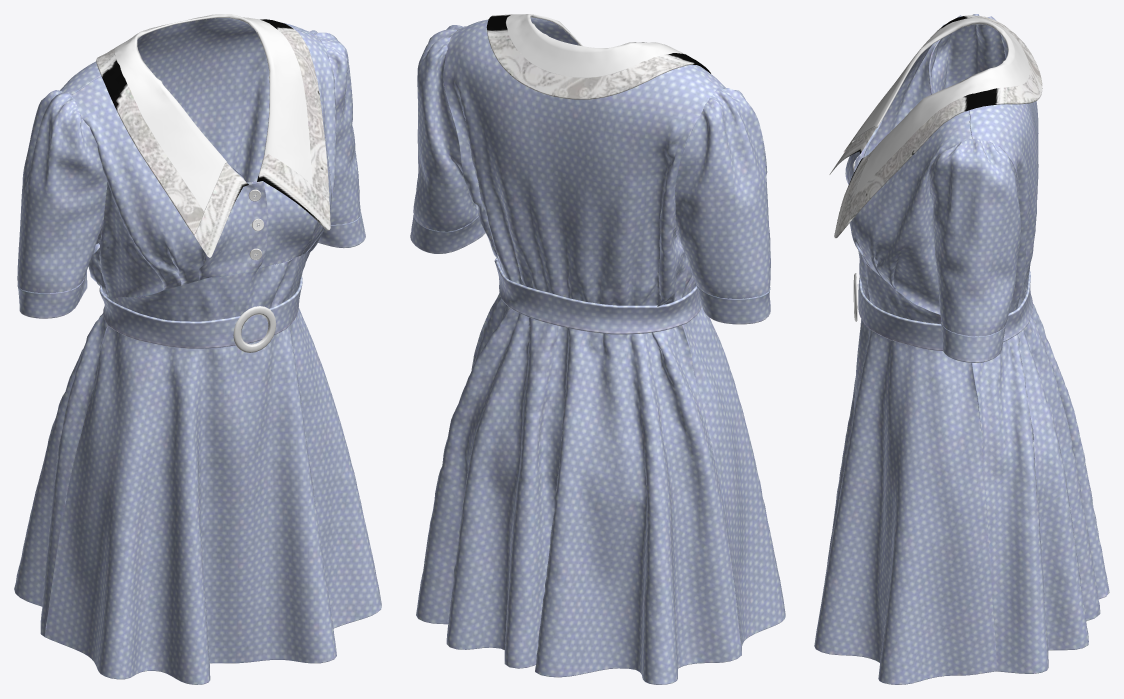
File: polka-dot-vintage-dress.glb
The picture shows the model from 3 angles, left to right: view 1: azimuth 30°, elevation 25°; view 2: azimuth 150°, elevation 25°; view 3: azimuth 270°, elevation 25°; orthographic projection. The views are drawn at different scales.
Visible parts, largest first — view 1: noname_2_front(2), 版片63_front, noname_front, 版片87_front, noname_1_1_1_front, noname_2_front(1), noname_1_1_2_front, 版片46_front, 版片63 对称 1_front, 版片23_front, 版片87 对称 1_front, noname_1_2_front (+4 smaller); view 2: noname_2_front(1), noname_front, 版片87_front, noname_2_front(2), 版片87 对称 1_front, 版片23_front, noname_1_1_2_front, noname_1_1_1_front, 版片25 对称 1_front, 版片25 对称 2_front; view 3: noname_2_front(2), noname_2_front(1), 版片87 对称 1_front, 版片63 对称 1_front, noname_1_1_1_front, noname_front, noname_1_1_2_front, 版片87_front, 版片23_front, 版片63_front, 版片46_front, 版片25 对称 2_front (+1 smaller).
Part boxes in pixels (x1,y1,x2,y2): noname_2_front(2): (44,307,381,684); 版片63_front: (71,76,268,299); noname_front: (60,18,316,298); 版片87_front: (17,90,107,293); noname_1_1_1_front: (114,14,312,211); noname_2_front(1): (14,296,107,636); noname_1_1_2_front: (96,19,329,235); 版片46_front: (110,252,309,321); 版片63 对称 1_front: (247,30,336,268); 版片23_front: (99,276,302,348); 版片87 对称 1_front: (310,30,360,224); noname_1_2_front: (257,154,330,230); noname_2_front(1): (416,293,741,684); noname_front: (443,19,717,306); 版片87_front: (675,88,770,298); noname_2_front(2): (472,306,785,655); 版片87 对称 1_front: (413,25,478,231); 版片23_front: (494,258,701,334); noname_1_1_2_front: (486,14,710,99); noname_1_1_1_front: (505,14,684,77); 版片25 对称 1_front: (696,284,770,324); 版片25 对称 2_front: (410,215,485,253); noname_2_front(2): (814,319,996,684); noname_2_front(1): (971,288,1109,673); 版片87 对称 1_front: (929,138,1021,336); 版片63 对称 1_front: (849,110,971,314); noname_1_1_1_front: (852,17,1029,195); noname_front: (969,39,1038,313); noname_1_1_2_front: (844,15,1042,220); 版片87_front: (928,14,1007,94); 版片23_front: (858,270,1032,350); 版片63_front: (845,41,937,184); 版片46_front: (858,250,940,323); 版片25 对称 2_front: (941,320,1005,362).
Bounding box in the file's own units: 46.97 × 77.9 × 35.8.
3 materials, 1 textured.
